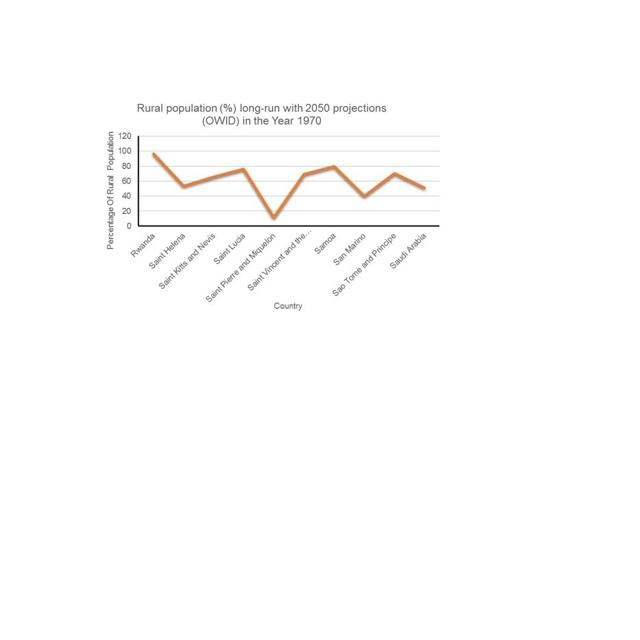Graph: (99, 98, 444, 315)
